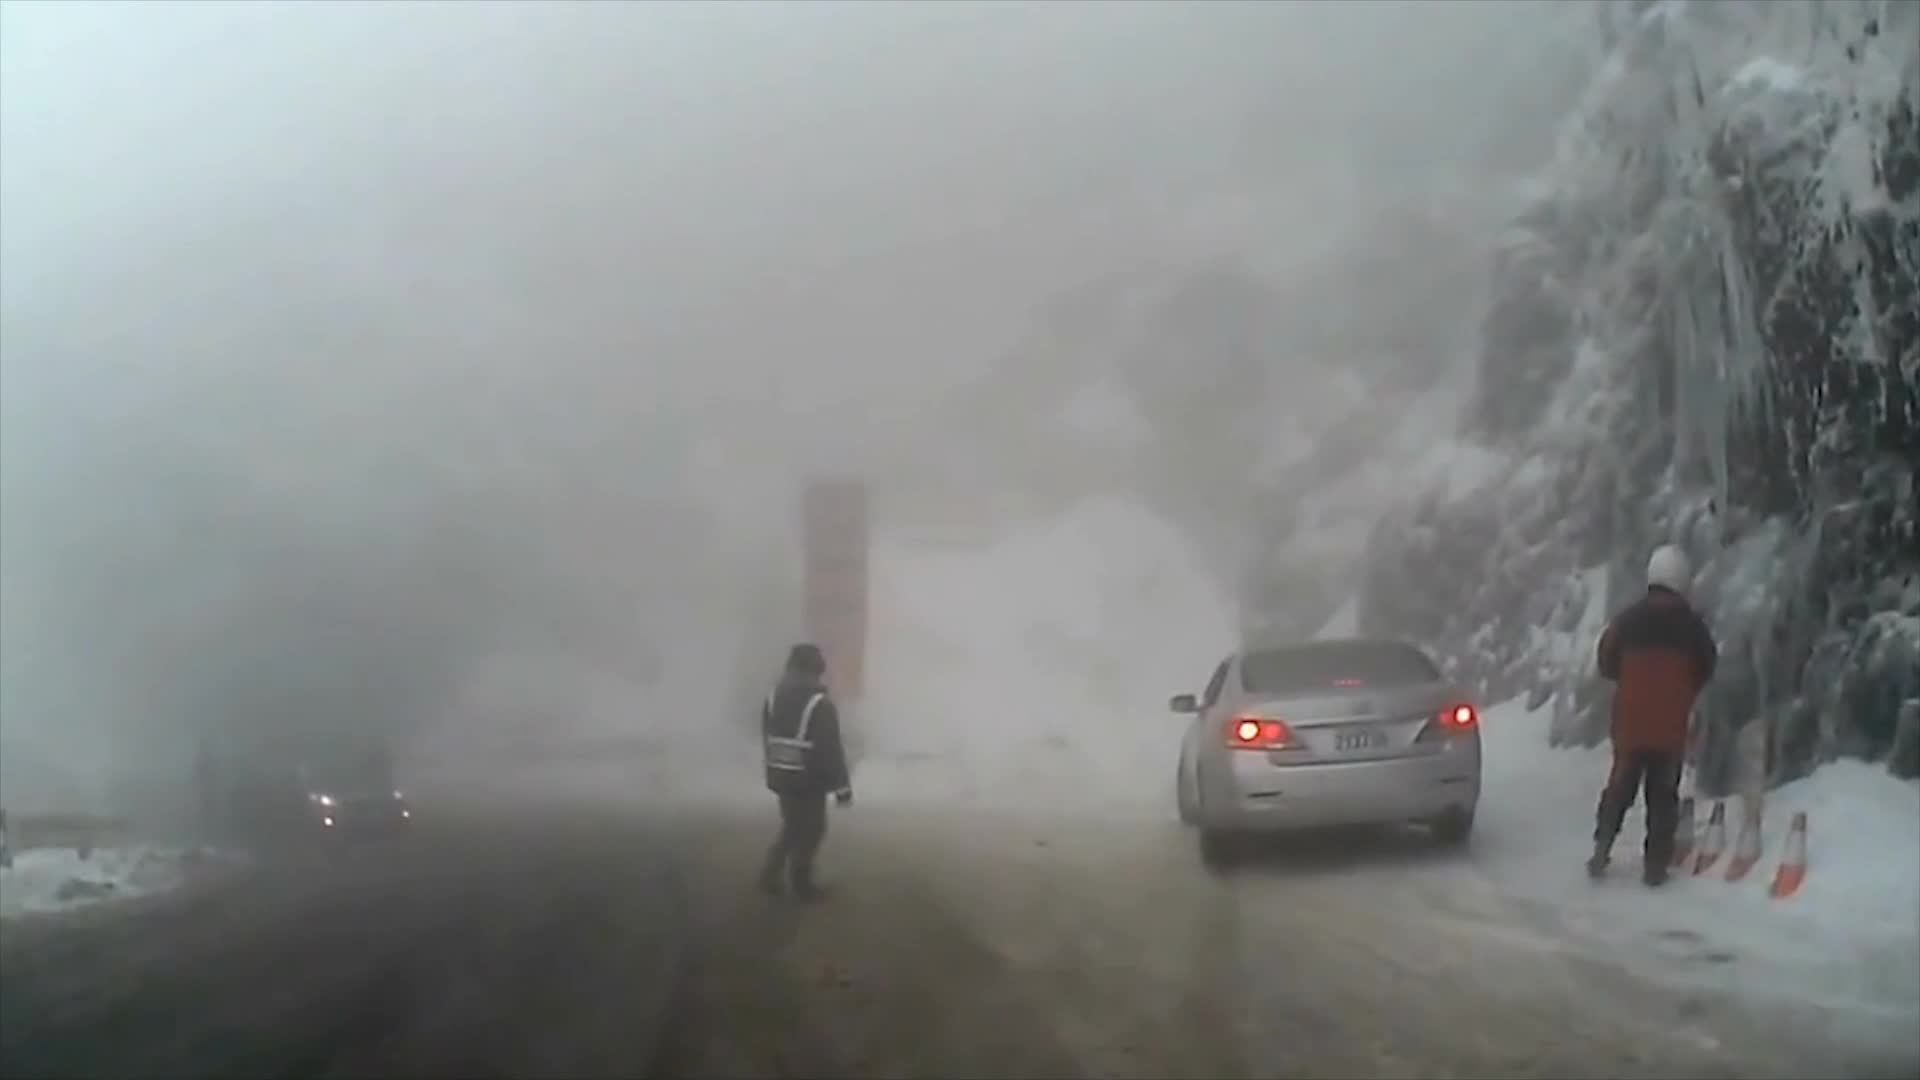pedestrian: (1588, 546, 1721, 889), (760, 647, 866, 905)
vehicle: (1165, 635, 1480, 870)
